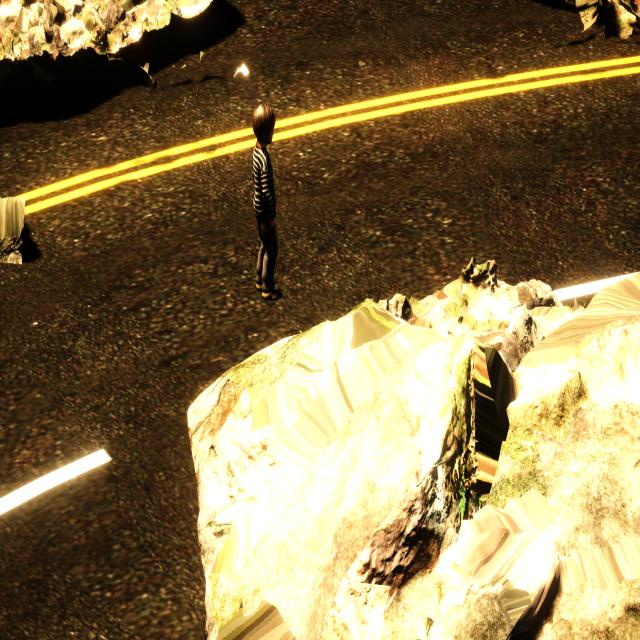Human: (245, 100, 290, 310)
